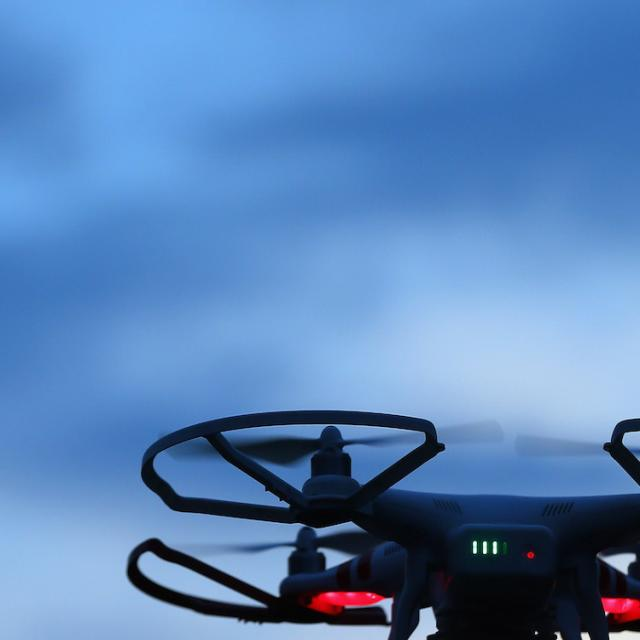drone: (88, 361, 640, 640)
